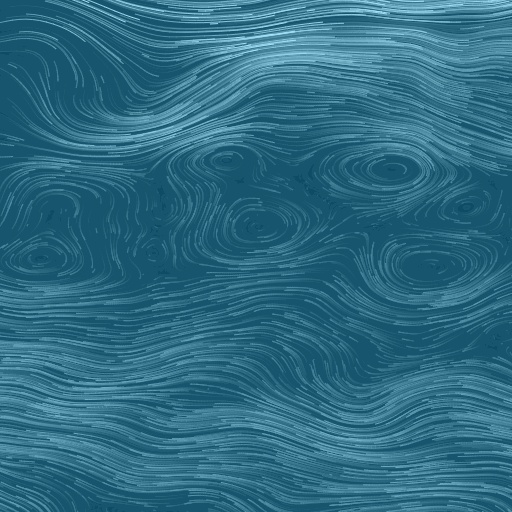eddy: (375, 233, 490, 299), (213, 193, 310, 257), (333, 141, 437, 197), (7, 222, 81, 281), (203, 145, 250, 176), (450, 188, 490, 222)
